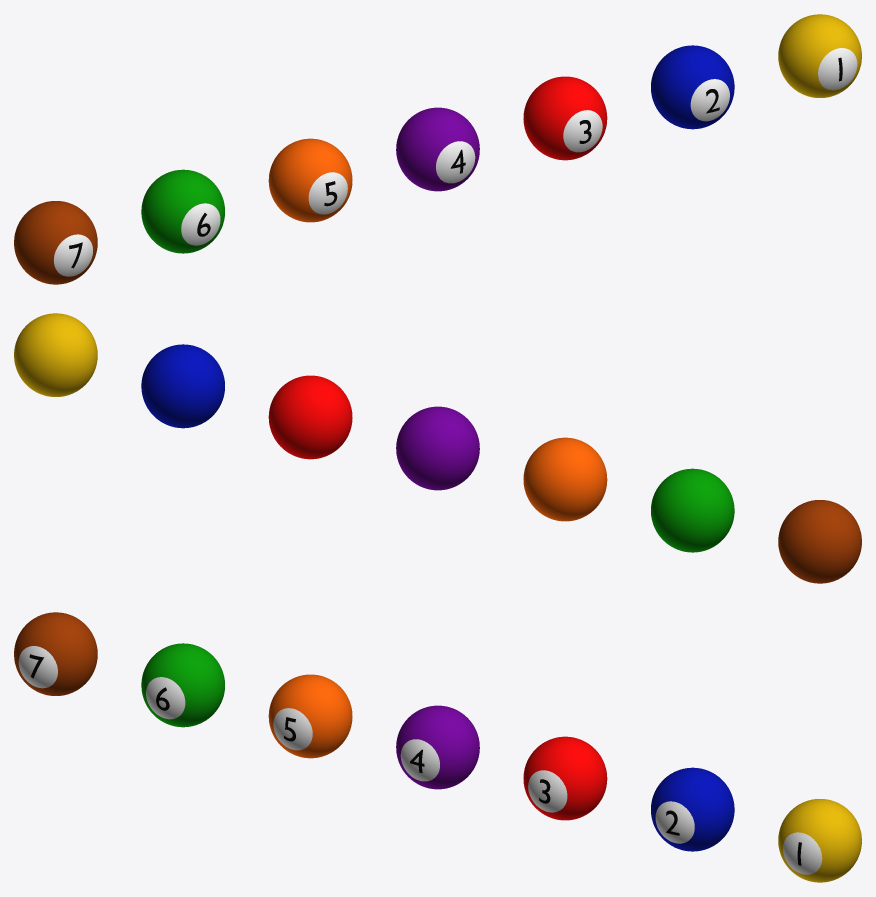
The model's file is SolidBall.fbx.
The picture shows the model from 3 angles, top to bottom: view 1: azimuth 30°, elevation 25°; view 2: azimuth 150°, elevation 25°; view 3: azimuth 330°, elevation 25°; orthographic projection.
Visible parts, largest first — view 1: Ball1, Ball3, Ball5, Ball7, Ball2, Ball4, Ball6; view 2: Ball1, Ball3, Ball5, Ball7, Ball2, Ball4, Ball6; view 3: Ball1, Ball3, Ball5, Ball7, Ball2, Ball4, Ball6.
Boxes of the visible parts, box(x1,y1,x2,y2) form: Ball1: box(778, 14, 861, 97); Ball3: box(523, 76, 607, 160); Ball5: box(268, 138, 352, 222); Ball7: box(14, 201, 97, 284); Ball2: box(651, 45, 734, 129); Ball4: box(396, 107, 479, 191); Ball6: box(141, 169, 224, 253); Ball1: box(14, 313, 97, 396); Ball3: box(268, 375, 352, 459); Ball5: box(523, 437, 607, 521); Ball7: box(778, 500, 861, 583); Ball2: box(141, 344, 224, 428); Ball4: box(396, 406, 479, 490); Ball6: box(651, 468, 734, 552); Ball1: box(778, 799, 861, 882); Ball3: box(523, 736, 607, 820); Ball5: box(268, 674, 352, 758); Ball7: box(14, 612, 97, 695); Ball2: box(651, 767, 734, 851); Ball4: box(396, 705, 479, 789); Ball6: box(141, 643, 224, 727).
Size of the model in its own units: 65.7 by 5.7 by 5.7.
